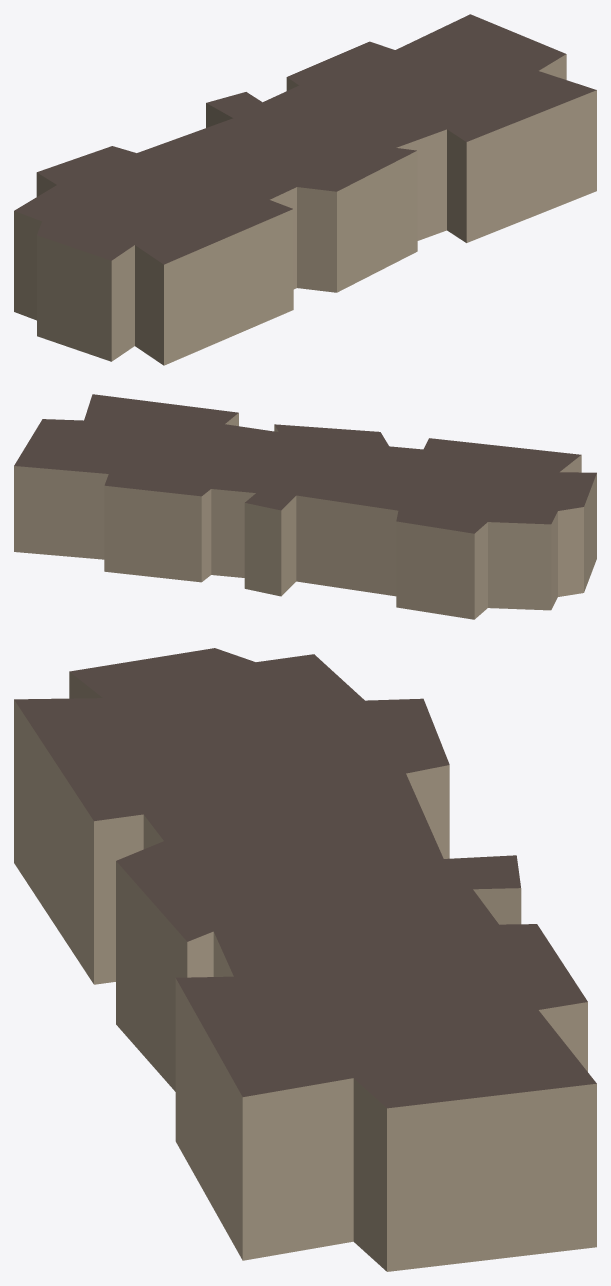
3 renders of one model, top to bottom at view 1: azimuth 30°, elevation 25°; view 2: azimuth 150°, elevation 25°; view 3: azimuth 270°, elevation 25°, orthographic. The views are drawn at different scales.
Visible parts, largest first — view 1: HP-w1512481856; view 2: HP-w1512481856; view 3: HP-w1512481856.
Part boxes in pixels (bbox=[...]): HP-w1512481856: bbox=[14, 14, 596, 365]; HP-w1512481856: bbox=[14, 394, 596, 619]; HP-w1512481856: bbox=[14, 648, 596, 1271].
Size of the model in its own units: 54.32 by 9 by 29.07.
